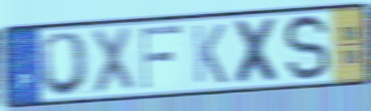F: (139, 23, 183, 92)
K: (191, 22, 230, 86)
O: (38, 30, 92, 98)
S: (281, 12, 332, 85)
X: (231, 16, 285, 86), (88, 24, 137, 97)
